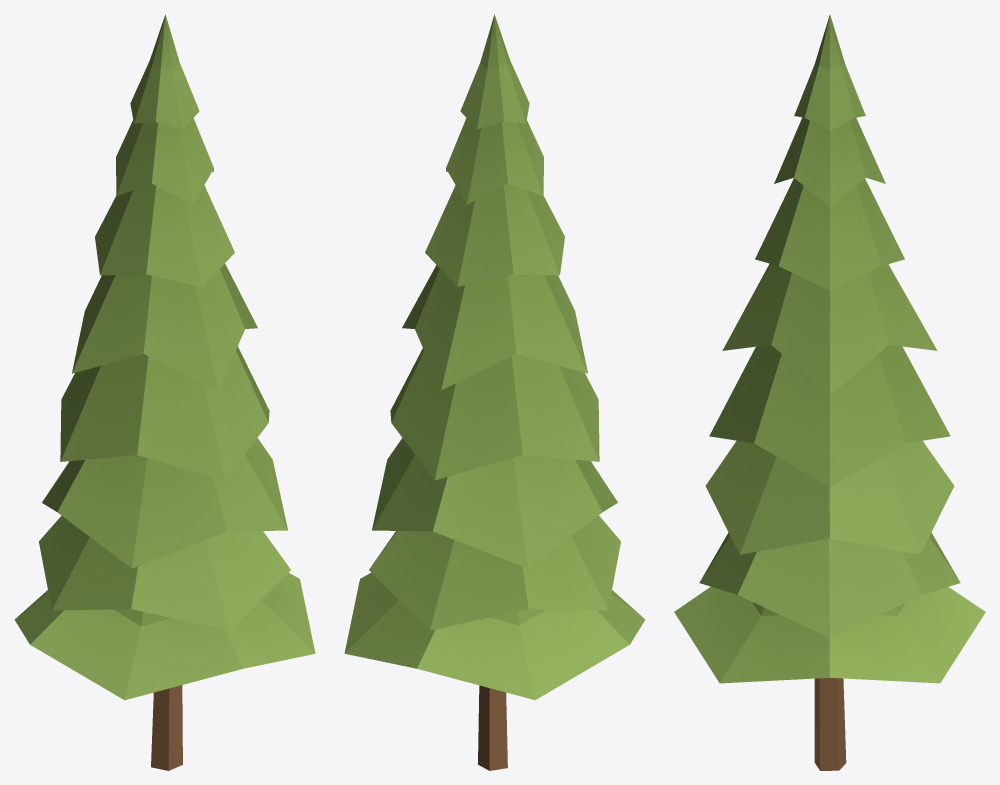
File: Pine_Tree_OneSided_l_02_LOD.fbx
3 views of the same model, side by side, from view 1: azimuth 30°, elevation 25°; view 2: azimuth 150°, elevation 25°; view 3: azimuth 270°, elevation 25° (orthographic).
Visible parts, largest first — view 1: Pine_Tree_OneSided_l_02_LOD0; view 2: Pine_Tree_OneSided_l_02_LOD0; view 3: Pine_Tree_OneSided_l_02_LOD0.
Boxes of the visible parts, box(x1,y1,x2,y2) form: Pine_Tree_OneSided_l_02_LOD0: box(14, 14, 315, 770); Pine_Tree_OneSided_l_02_LOD0: box(344, 14, 645, 770); Pine_Tree_OneSided_l_02_LOD0: box(674, 15, 985, 770).
Size of what is drawn, in the model's own units: 666 by 1768 by 666.
